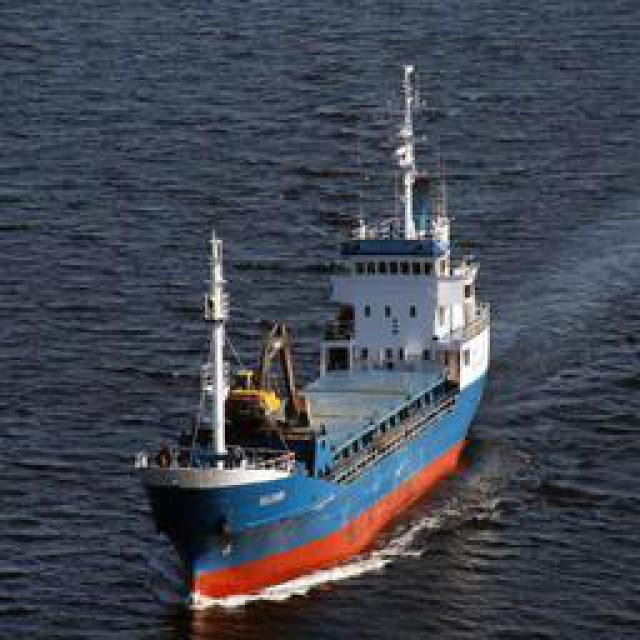Ship: (136, 114, 491, 609)
